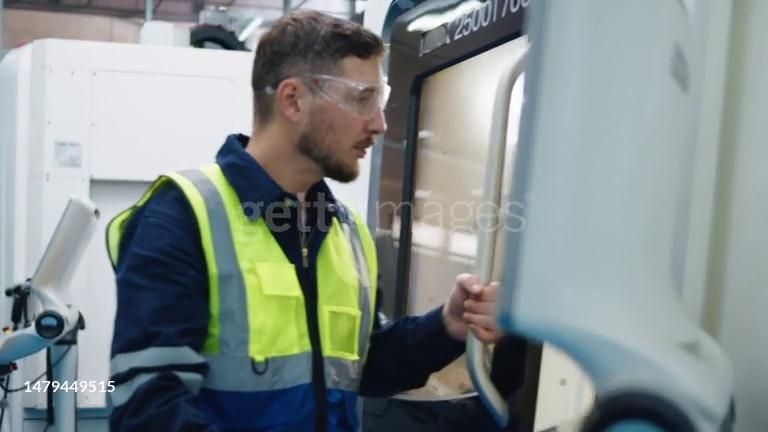person: (105, 10, 499, 432)
